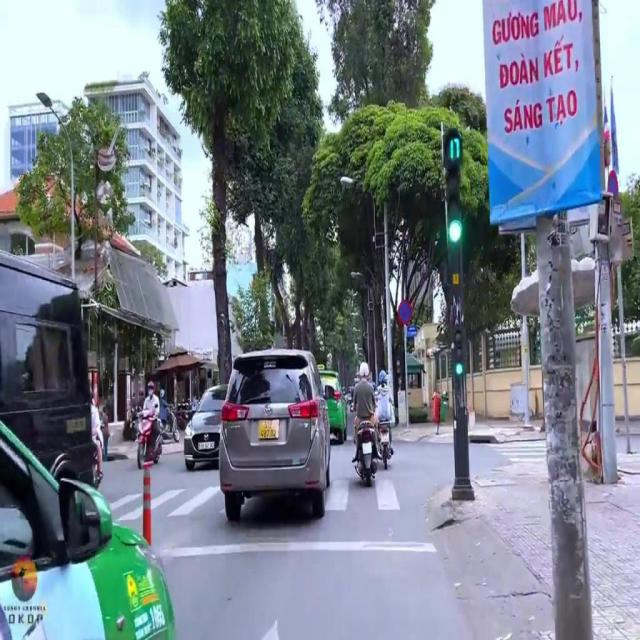cam_dung_xe_va_do_xe: (398, 300, 413, 326)
